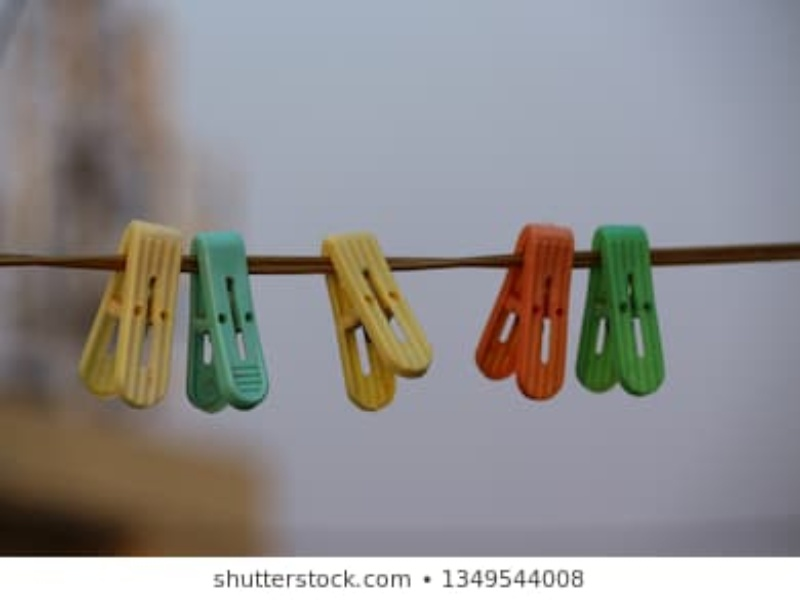plastic-peg: (318, 230, 434, 414), (76, 218, 181, 414), (475, 220, 579, 401), (582, 222, 668, 396), (190, 229, 267, 416)
